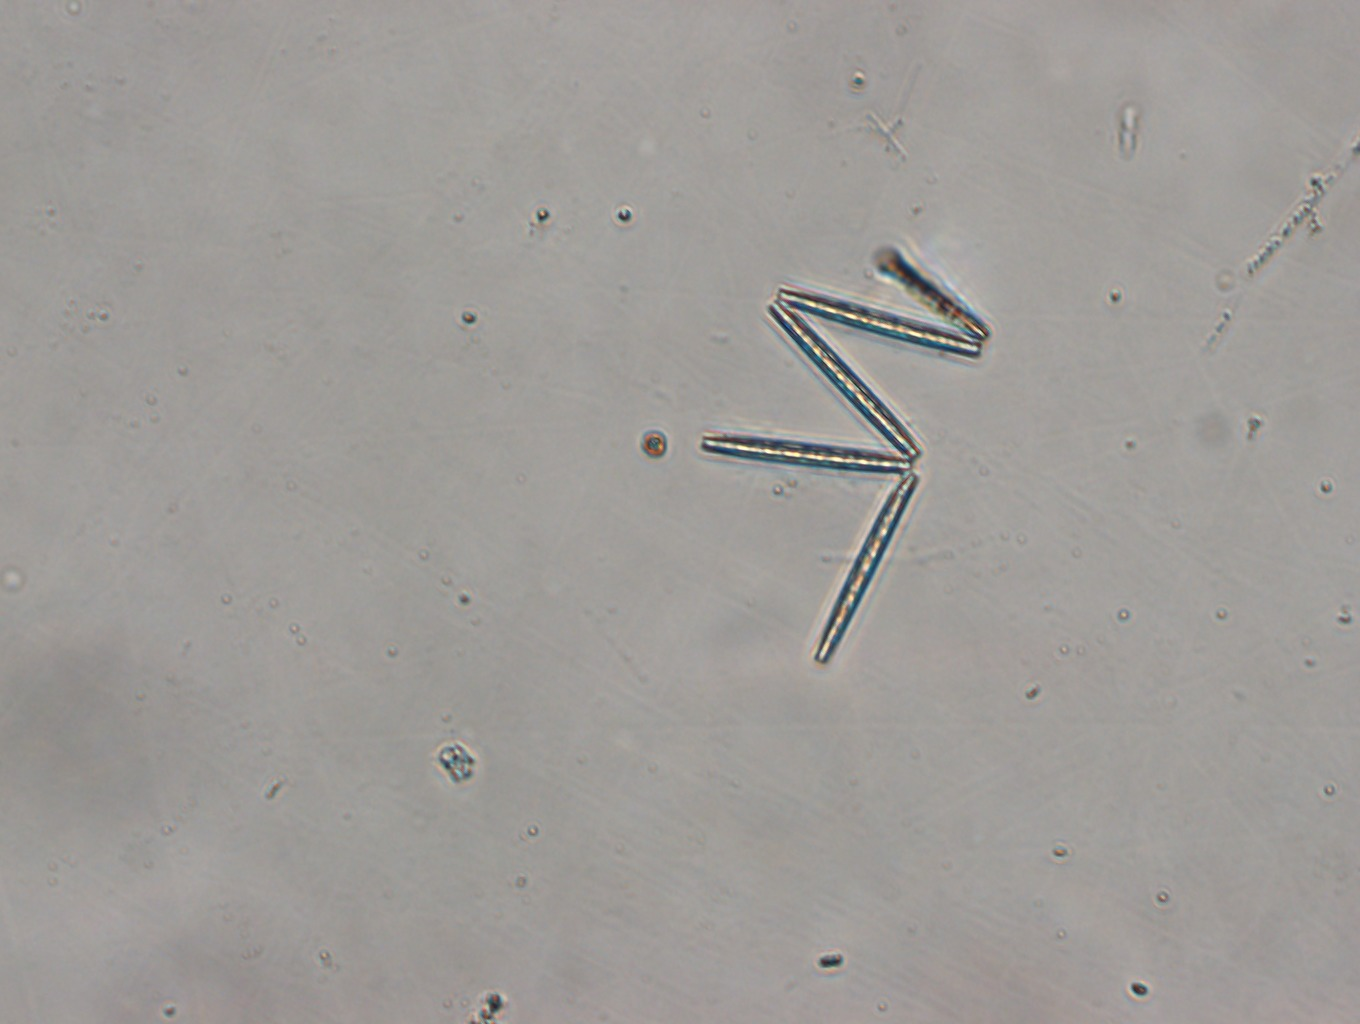thalassionema nitzschioides: (695, 238, 988, 670)
